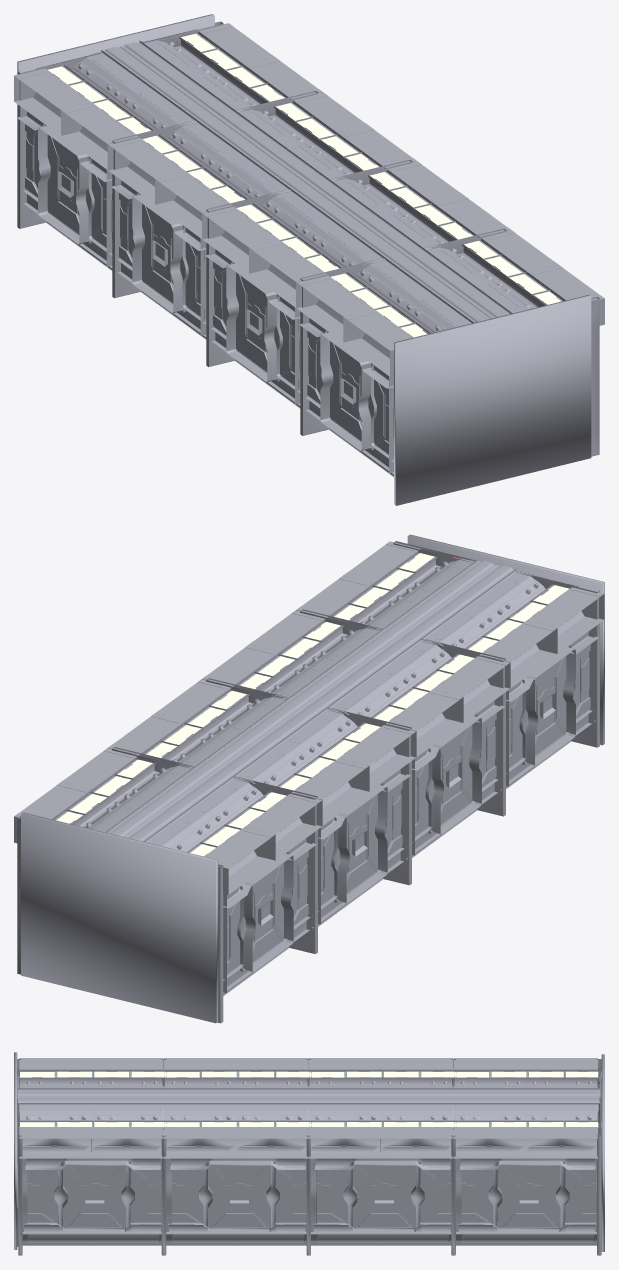
The model's file is corridor.glb.
3 renders of one model, top to bottom at view 1: azimuth 30°, elevation 25°; view 2: azimuth 150°, elevation 25°; view 3: azimuth 270°, elevation 25°, orthographic. The views are drawn at different scales.
Visible parts, largest first — view 1: corridorMetal, door1.1, exteriorStrips, pillars, door1.002; view 2: corridorMetal, door1.002, exteriorStrips, pillars, door1.1; view 3: corridorMetal, exteriorStrips, pillars, door1.1, door1.002, door.
Boxes of the visible parts, x1,y1,x2,y2 form: corridorMetal: [14, 21, 604, 476]; door1.1: [394, 295, 591, 505]; exteriorStrips: [48, 32, 564, 337]; pillars: [112, 91, 599, 456]; door1.002: [17, 14, 214, 72]; corridorMetal: [14, 541, 604, 1023]; door1.002: [21, 812, 218, 1023]; exteriorStrips: [53, 552, 569, 856]; pillars: [112, 541, 599, 953]; door1.1: [407, 534, 604, 745]; corridorMetal: [18, 1058, 601, 1255]; exteriorStrips: [19, 1070, 601, 1128]; pillars: [17, 1059, 455, 1255]; door1.1: [14, 1052, 17, 1249]; door1.002: [601, 1054, 604, 1251]; door: [17, 1068, 19, 1246].
Bounding box in the file's own units: 9.46 × 6.9 × 29.28.
